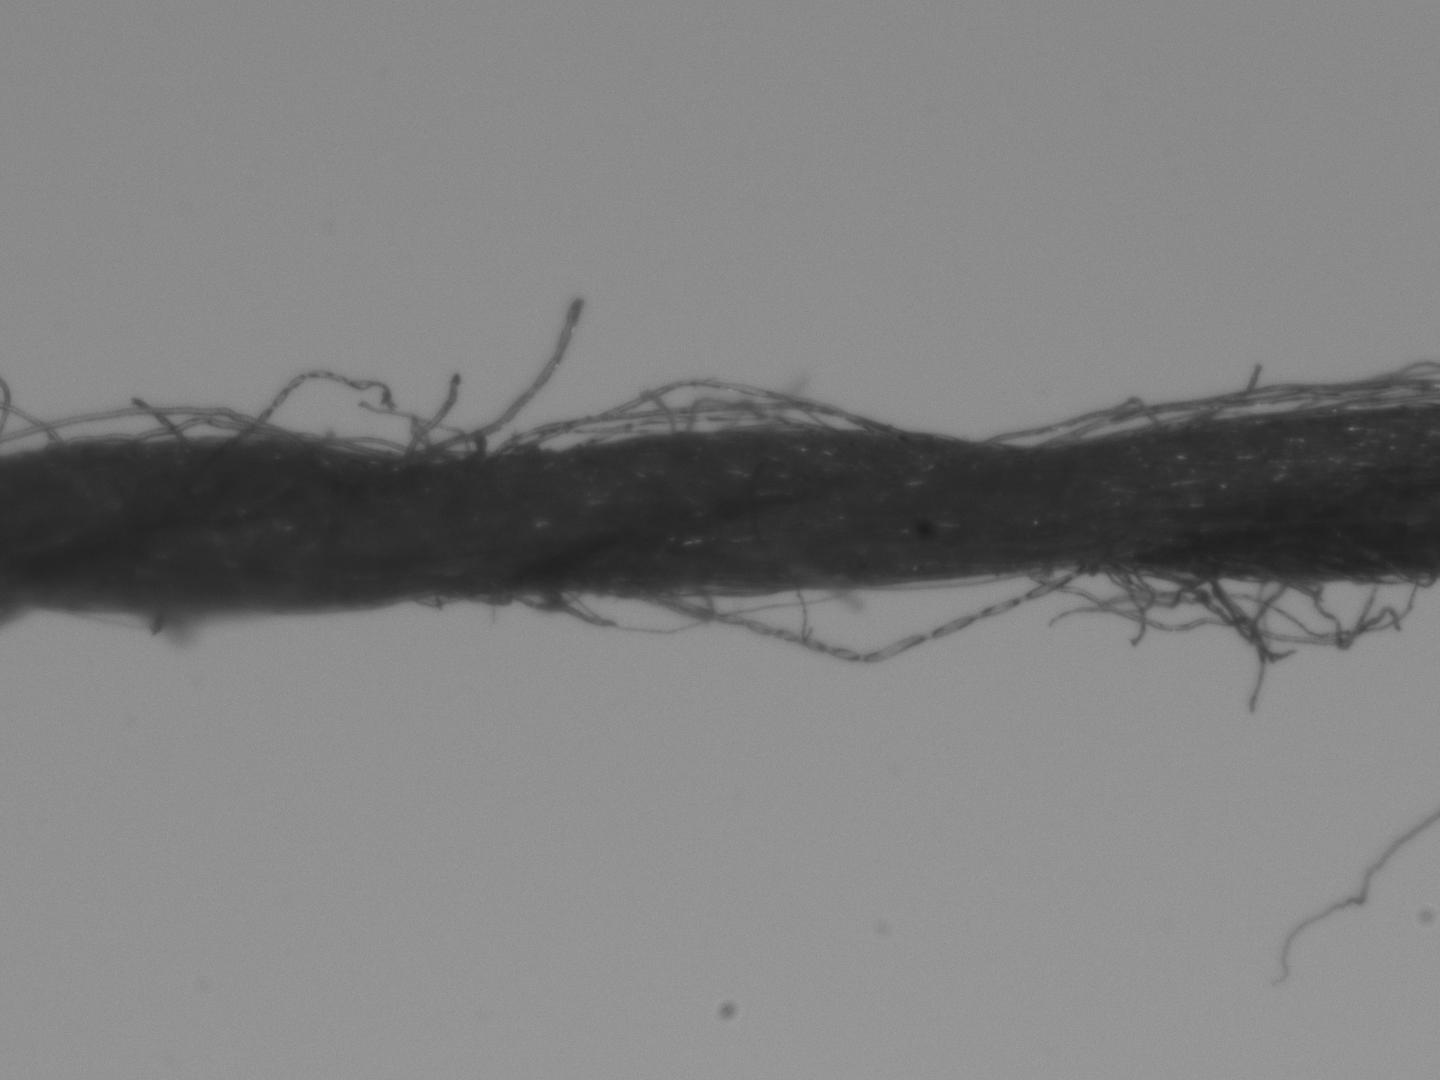loop_fiber: (654, 562, 1079, 665), (530, 378, 830, 454), (982, 396, 1154, 448), (50, 414, 255, 450), (1110, 562, 1211, 609), (500, 583, 577, 611), (421, 431, 484, 465), (320, 439, 407, 456)
protruding_fiber: (426, 298, 579, 454), (239, 366, 396, 439), (404, 370, 461, 453), (1201, 360, 1263, 428), (137, 393, 178, 434)
